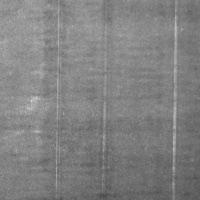scratches: (167, 2, 182, 196)
